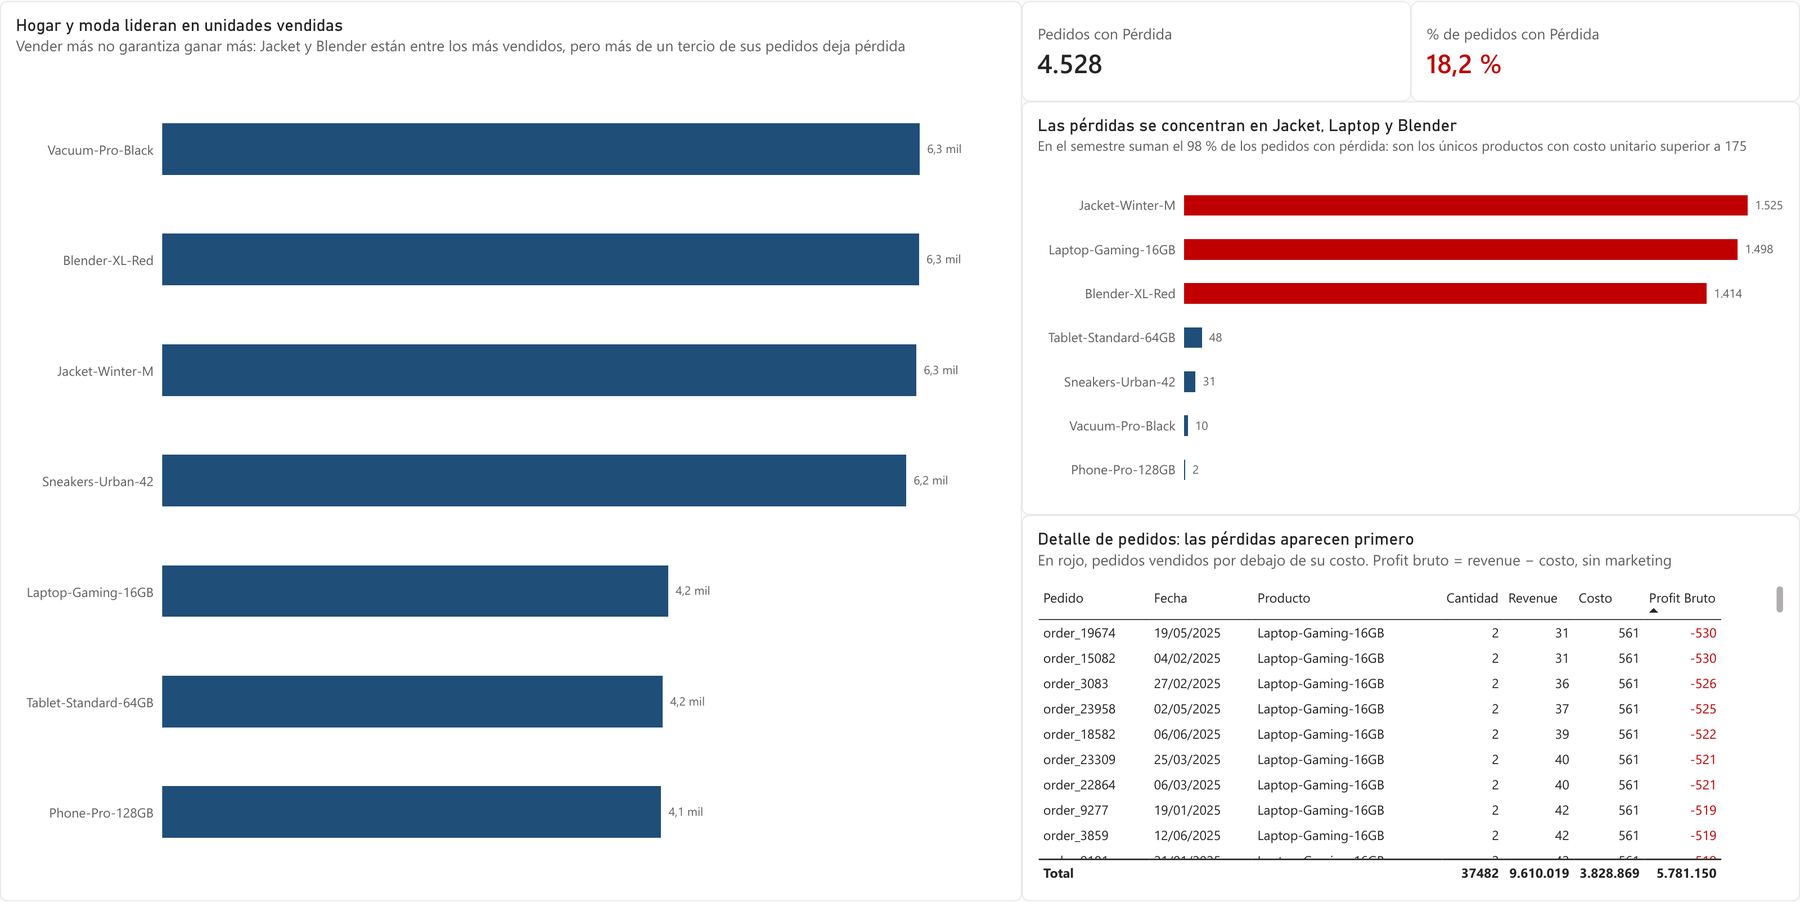

The dashboard page shown, as its layout file describes it:
{"tool":"powerbi","page":{"name":"Detalle","canvas":[1920,1080],"ordinal":1},"visuals":[{"type":"textbox","box":[10,0,796.7,92.6],"z":0},{"type":"slicer","fields":{"Values":["Dim_Fecha.Date"]},"box":[1202.9,0,716.9,92.6],"z":1000},{"type":"slicer","fields":{"Values":["catalog_clean.categoria_producto"]},"box":[880.8,0,322.1,92.6],"z":2000},{"type":"clusteredBarChart","title":"Hogar y moda lideran en unidades vendidas","fields":{"Category":["catalog_clean.nombre_producto"],"Y":["Sum(orders_clean.cantidad)"]},"box":[0,119.7,1090.3,960.6],"z":3000},{"type":"tableEx","title":"Detalle de pedidos: las pérdidas aparecen primero","fields":{"Values":["orders_clean.id_pedido","Dim_Fecha.Date","catalog_clean.nombre_producto","Sum(orders_clean.cantidad)","orders_clean.Revenue","orders_clean.Costo Total","orders_clean.Ganancia Bruta"]},"box":[1090.3,668.4,829.5,411.9],"z":4000},{"type":"cardVisual","fields":{"Data":["orders_clean.Pedidos con Pérdida Tarjeta"]},"box":[1090.3,119.7,414.7,106.9],"z":5000},{"type":"cardVisual","fields":{"Data":["orders_clean.% Pedidos con Pérdida"]},"box":[1505,119.7,414.7,106.9],"z":6000},{"type":"clusteredBarChart","title":"Las pérdidas se concentran en Jacket, Laptop y Blender","fields":{"Category":["catalog_clean.nombre_producto"],"Y":["orders_clean.Pedidos con Pérdida"]},"box":[1090.3,226.6,829.5,441.8],"z":7000}]}

Visuals, with their boxes on the page's 1920x1080 design canvas (x1, y1, x2, y2). These are canvas units, not pixel positions in the 1800x907 screenshot, which may show the page scaled, cropped or inside an application window:
textbox: {"x1": 10, "y1": 0, "x2": 807, "y2": 93}
slicer - Dim_Fecha.Date: {"x1": 1203, "y1": 0, "x2": 1920, "y2": 93}
slicer - catalog_clean.categoria_producto: {"x1": 881, "y1": 0, "x2": 1203, "y2": 93}
"Hogar y moda lideran en unidades vendidas" clusteredBarChart: {"x1": 0, "y1": 120, "x2": 1090, "y2": 1080}
"Detalle de pedidos: las pérdidas aparecen primero" tableEx: {"x1": 1090, "y1": 668, "x2": 1920, "y2": 1080}
cardVisual - orders_clean.Pedidos con Pérdida Tarjeta: {"x1": 1090, "y1": 120, "x2": 1505, "y2": 227}
cardVisual - orders_clean.% Pedidos con Pérdida: {"x1": 1505, "y1": 120, "x2": 1920, "y2": 227}
"Las pérdidas se concentran en Jacket, Laptop y Blender" clusteredBarChart: {"x1": 1090, "y1": 227, "x2": 1920, "y2": 668}
